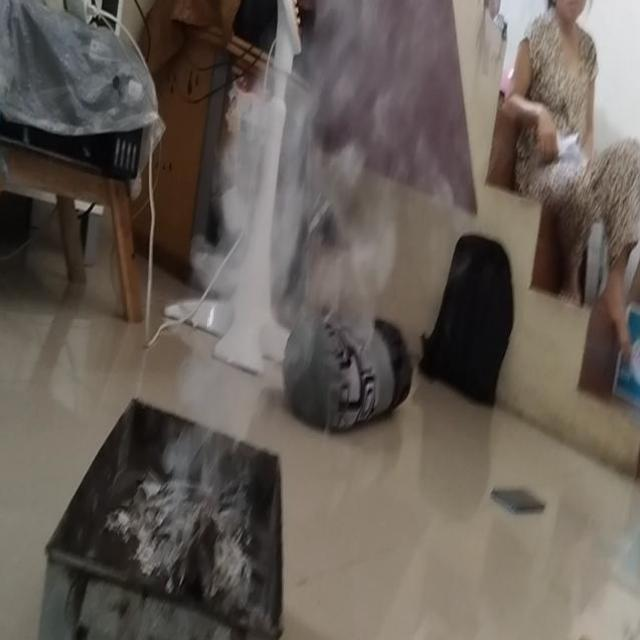fire: (184, 89, 297, 429), (302, 18, 417, 282)
